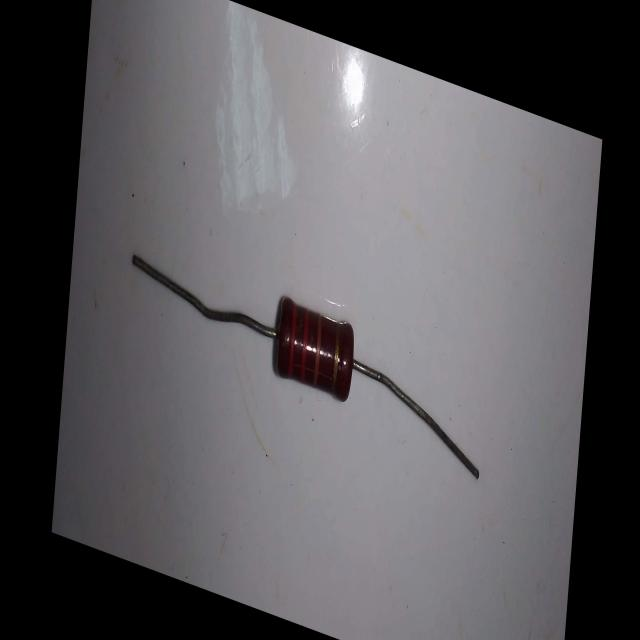Carbon Resistor: (123, 238, 502, 494)
